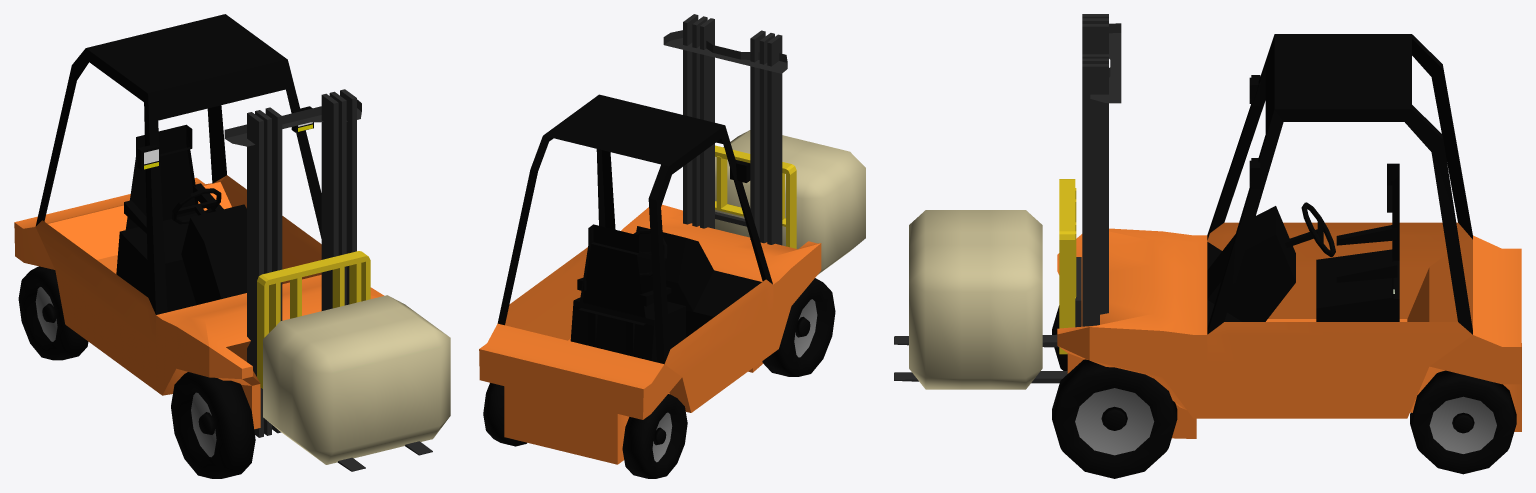
Rendered from frk3.glb.
3 renders of one model, left to right at view 1: azimuth 30°, elevation 25°; view 2: azimuth 150°, elevation 25°; view 3: azimuth 270°, elevation 25°, orthographic. The views are drawn at different scales.
Visible parts, largest first — view 1: Cube.024, box, Cube.022, Cylinder.021, forklift_handle, Cube.014, Cube.017, Plane.001; view 2: Cube.024, Cube.022, Cylinder.021, box, forklift_handle; view 3: Cube.024, box, Cylinder.021, Cube.022, forklift_handle, Plane.001, Cube.014, Cube.017.
Part boxes in pixels (bbox=[...]): Cube.024: bbox=[14, 14, 384, 429]; box: bbox=[263, 295, 450, 464]; Cube.022: bbox=[224, 89, 361, 437]; Cylinder.021: bbox=[18, 266, 255, 478]; forklift_handle: bbox=[257, 251, 370, 388]; Cube.014: bbox=[137, 106, 313, 170]; Cube.017: bbox=[172, 188, 221, 224]; Plane.001: bbox=[337, 441, 432, 471]; Cube.024: bbox=[479, 94, 821, 464]; Cube.022: bbox=[663, 14, 787, 245]; Cylinder.021: bbox=[483, 278, 835, 478]; box: bbox=[715, 130, 865, 274]; forklift_handle: bbox=[715, 145, 796, 248]; Cube.024: bbox=[1057, 34, 1521, 438]; box: bbox=[909, 210, 1042, 389]; Cylinder.021: bbox=[1052, 305, 1516, 478]; Cube.022: bbox=[1082, 14, 1121, 326]; forklift_handle: bbox=[1059, 179, 1076, 354]; Plane.001: bbox=[894, 257, 1081, 383]; Cube.014: bbox=[1249, 75, 1260, 188]; Cube.017: bbox=[1301, 202, 1335, 256].
Size of the model in its own units: 1.11 by 2.01 by 2.91.
3 materials, 1 textured.
